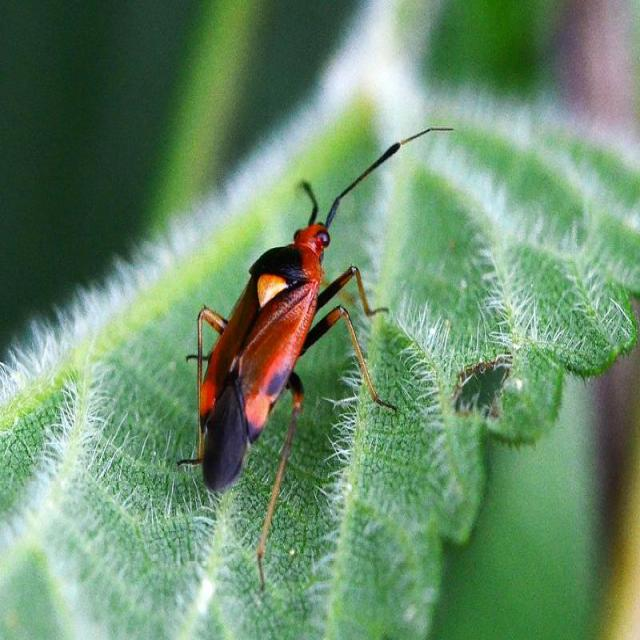Miridae-Adult-: (181, 108, 468, 504)
